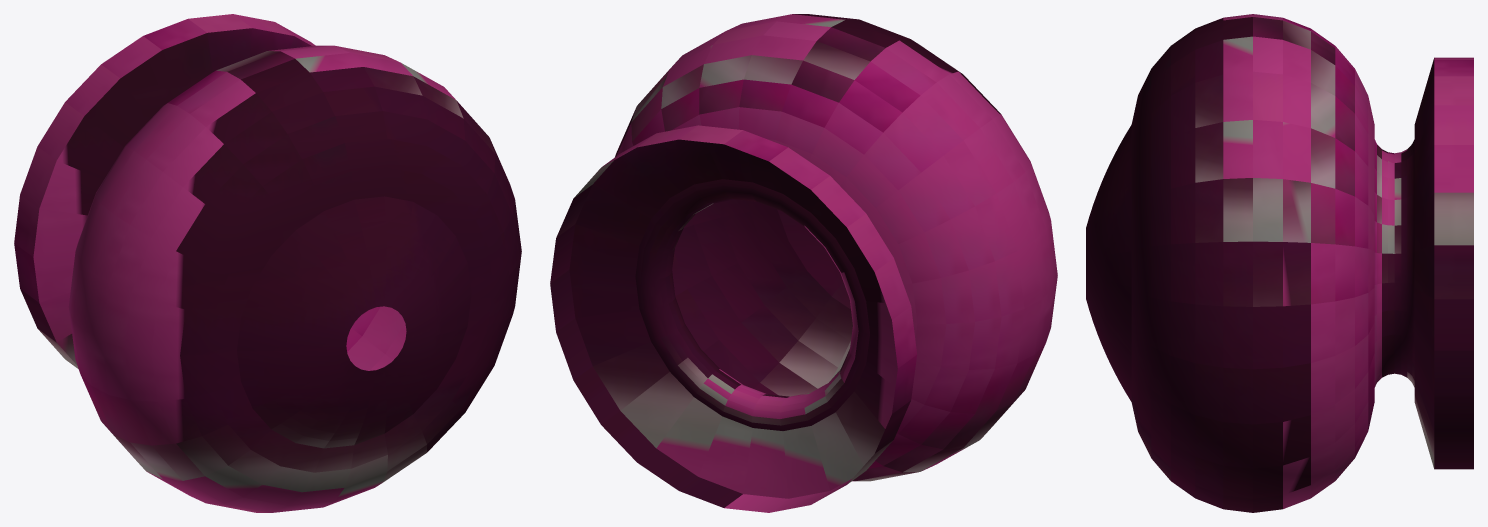
The model's file is original-41.obj.
3 views of the same model, side by side, from view 1: azimuth 30°, elevation 25°; view 2: azimuth 150°, elevation 25°; view 3: azimuth 270°, elevation 25° (orthographic). The views are drawn at different scales.
Parts seen in each view (by area): view 1: Knob1/Knob/mesh24/mesh24-geometry#mesh24-geometry; view 2: Knob1/Knob/mesh24/mesh24-geometry#mesh24-geometry; view 3: Knob1/Knob/mesh24/mesh24-geometry#mesh24-geometry.
Part boxes in pixels (x1,y1,x2,y2): Knob1/Knob/mesh24/mesh24-geometry#mesh24-geometry: (14,14,521,512); Knob1/Knob/mesh24/mesh24-geometry#mesh24-geometry: (550,14,1057,512); Knob1/Knob/mesh24/mesh24-geometry#mesh24-geometry: (1086,14,1473,512).
Bounding box in the file's own units: 0.049 × 0.049 × 0.0379.
